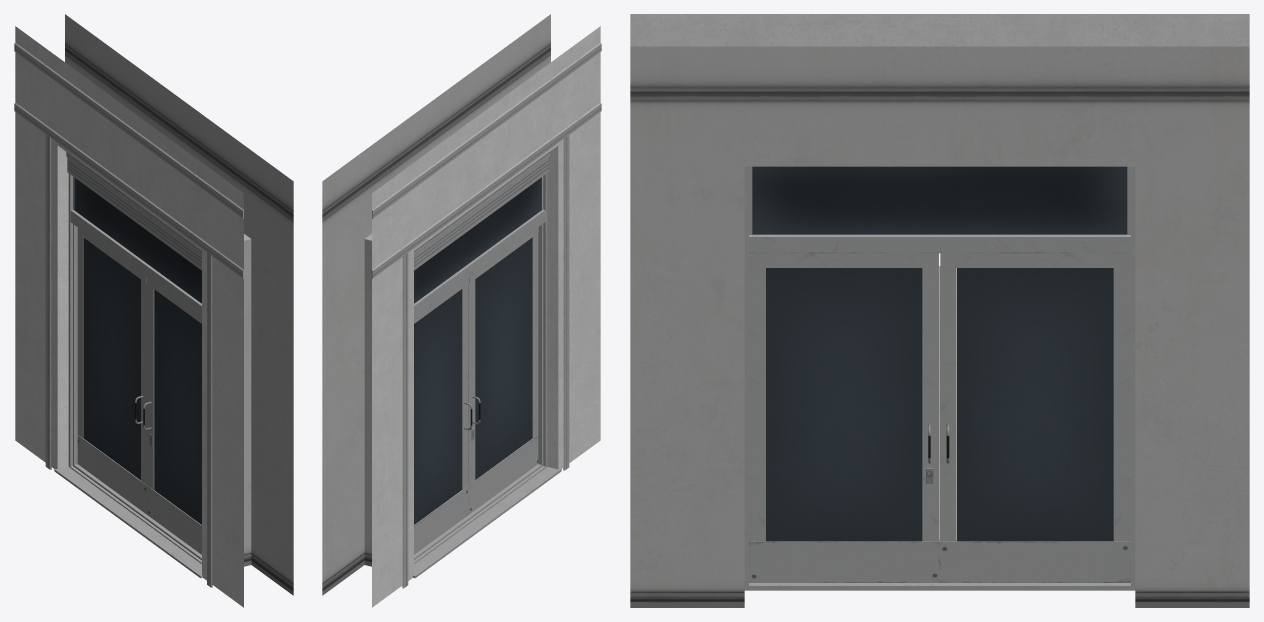
Rendered from MB_Entrance_A_07.fbx.
3 renders of one model, left to right at view 1: azimuth 30°, elevation 25°; view 2: azimuth 150°, elevation 25°; view 3: azimuth 270°, elevation 25°, orthographic. The views are drawn at different scales.
Visible parts, largest first — view 1: MB_Entrance_A_07, MB_Door_Glass_10_LOD0, MB_Door_Glass_09_LOD0; view 2: MB_Entrance_A_07, MB_Door_Glass_09_LOD0, MB_Door_Glass_10_LOD0; view 3: MB_Entrance_A_07, MB_Door_Glass_10_LOD0, MB_Door_Glass_09_LOD0.
Part boxes in pixels (x1,y1,x2,y2): MB_Entrance_A_07: (14,14,293,607); MB_Door_Glass_10_LOD0: (77,227,147,514); MB_Door_Glass_09_LOD0: (143,278,201,554); MB_Entrance_A_07: (322,14,601,607); MB_Door_Glass_09_LOD0: (468,227,538,514); MB_Door_Glass_10_LOD0: (414,278,472,554); MB_Entrance_A_07: (630,14,1249,607); MB_Door_Glass_10_LOD0: (939,253,1130,582); MB_Door_Glass_09_LOD0: (749,253,939,582).
Size of what is drawn, in the model's own units: 52.31 by 403 by 400.
